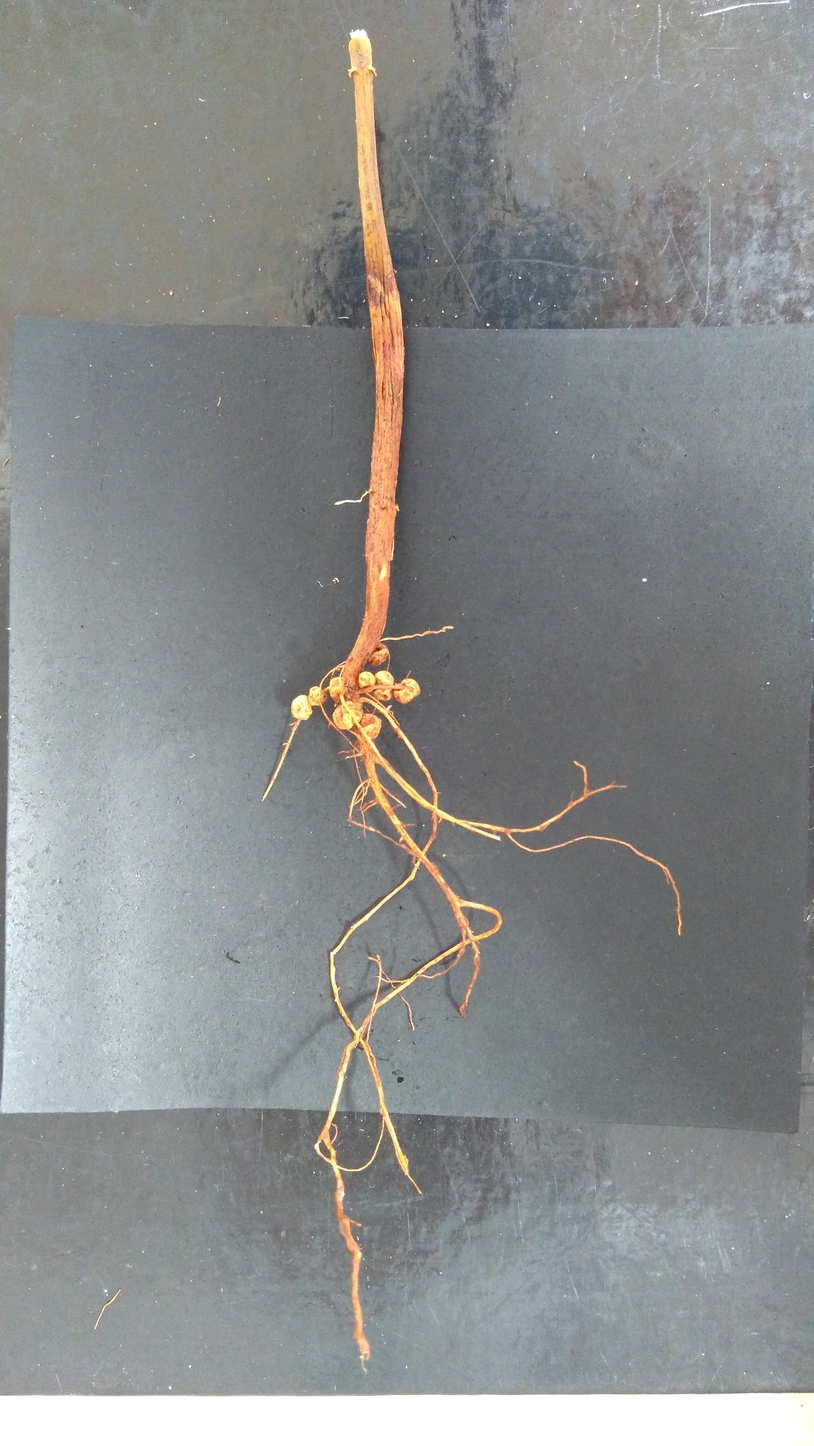nodule: (331, 699, 363, 731), (392, 676, 423, 706), (289, 692, 314, 721), (359, 712, 383, 739), (328, 676, 346, 705), (307, 684, 328, 708), (368, 647, 390, 667), (374, 668, 395, 687), (357, 670, 376, 688), (372, 688, 392, 703)
